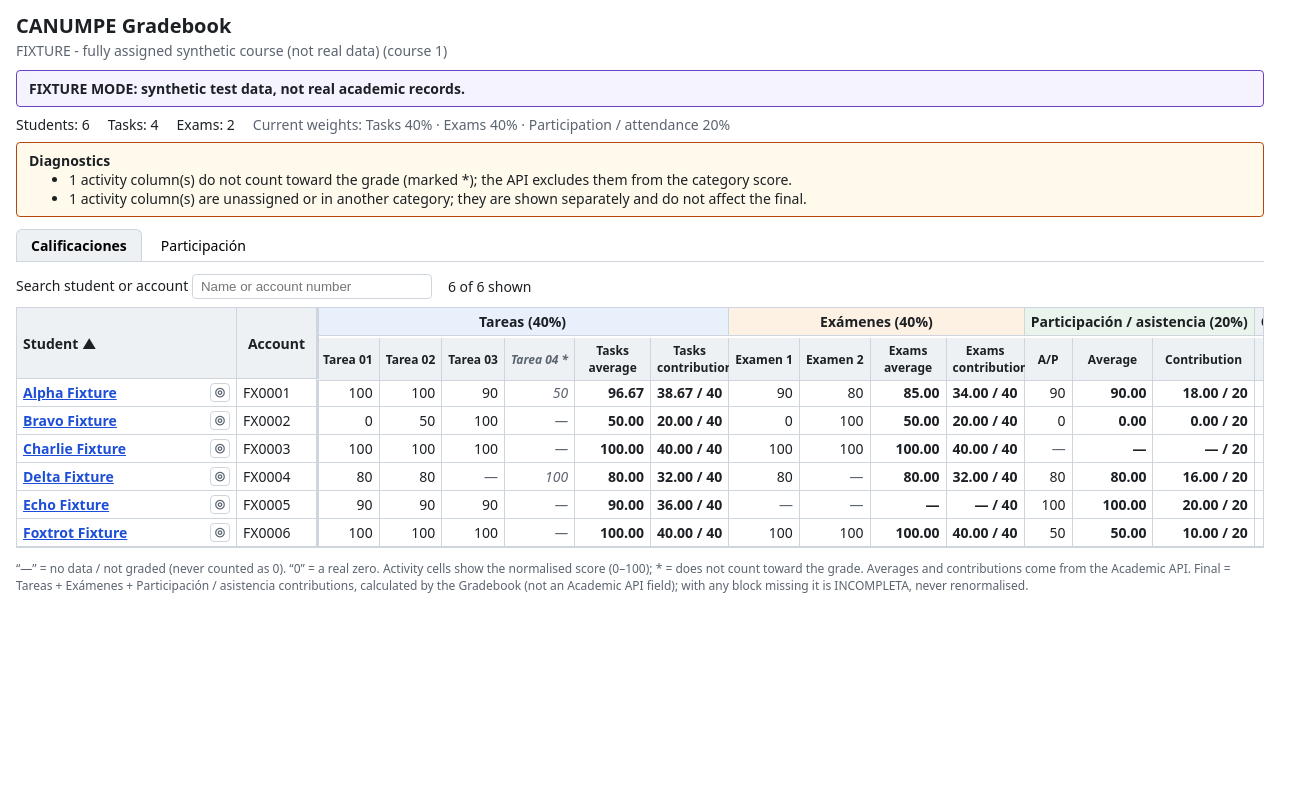
Test: App › filters by name and by account
Expected: the table is shown, [17,308,1264,547]
Step 1. Type "delta" into the search field labelled "Search student or account" → (312, 286), box [192,274,432,299]
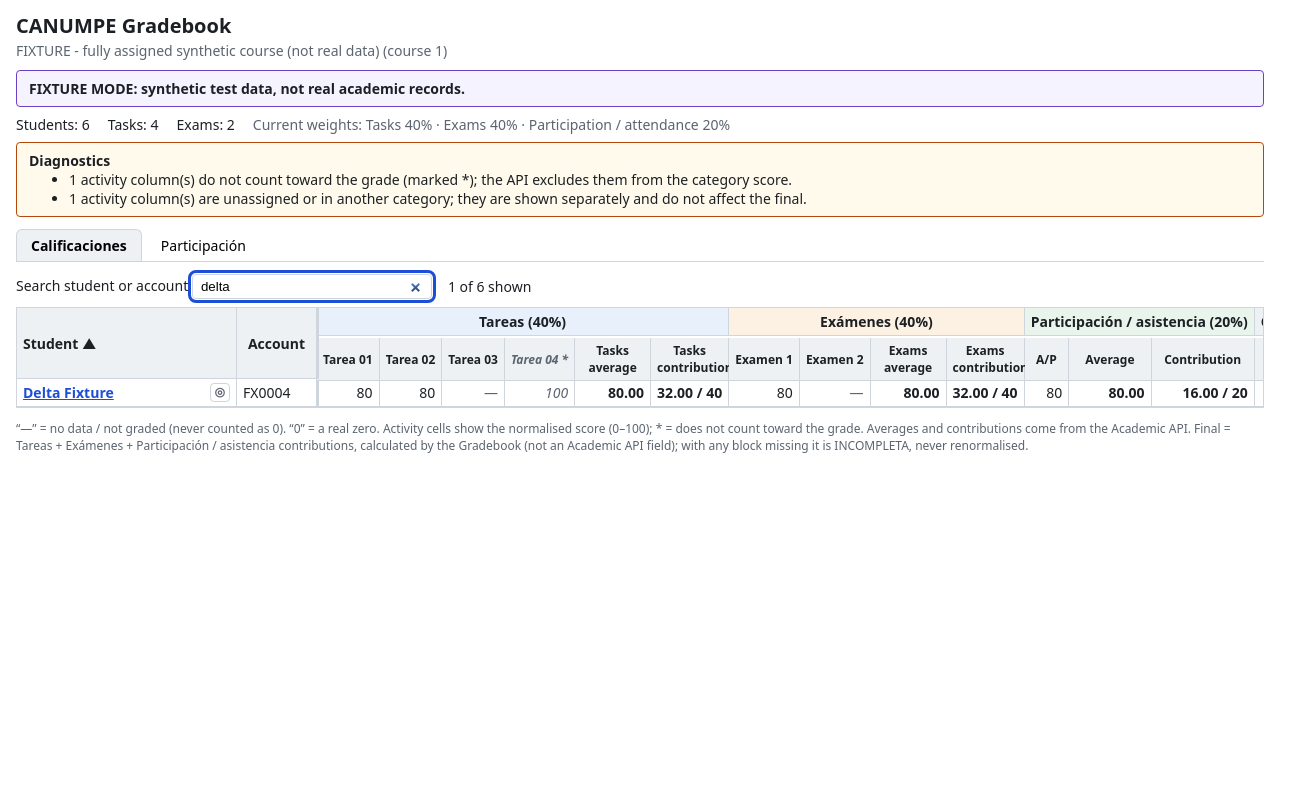
Step 2. Replace the text in the search field labelled "Search student or account" with "FX0002" → (312, 286), box [192,274,432,299]
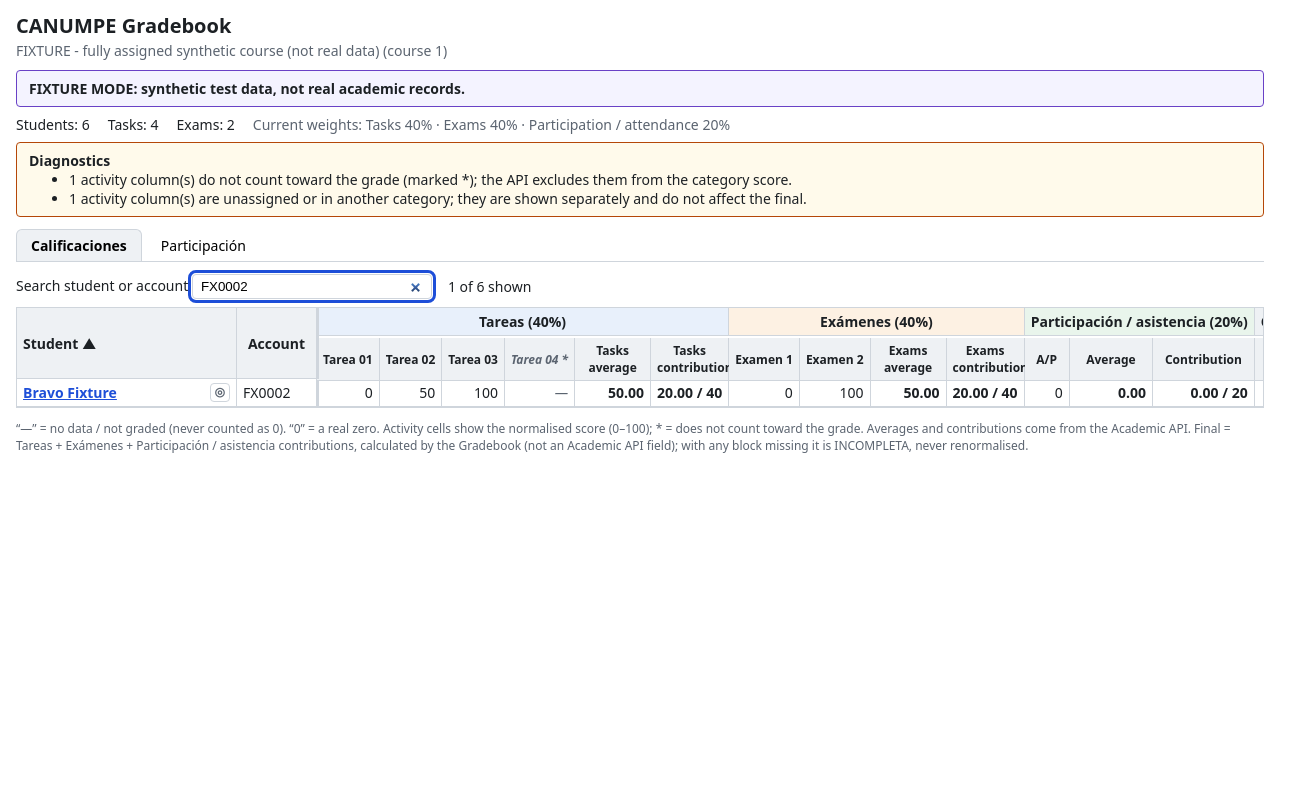
Expected: the row that starts with "Bravo Fixture" is shown, [23,383,117,402]
Step 3. Replace the text in the search field labelled "Search student or account" with "zzz" → (312, 286), box [192,274,432,299]
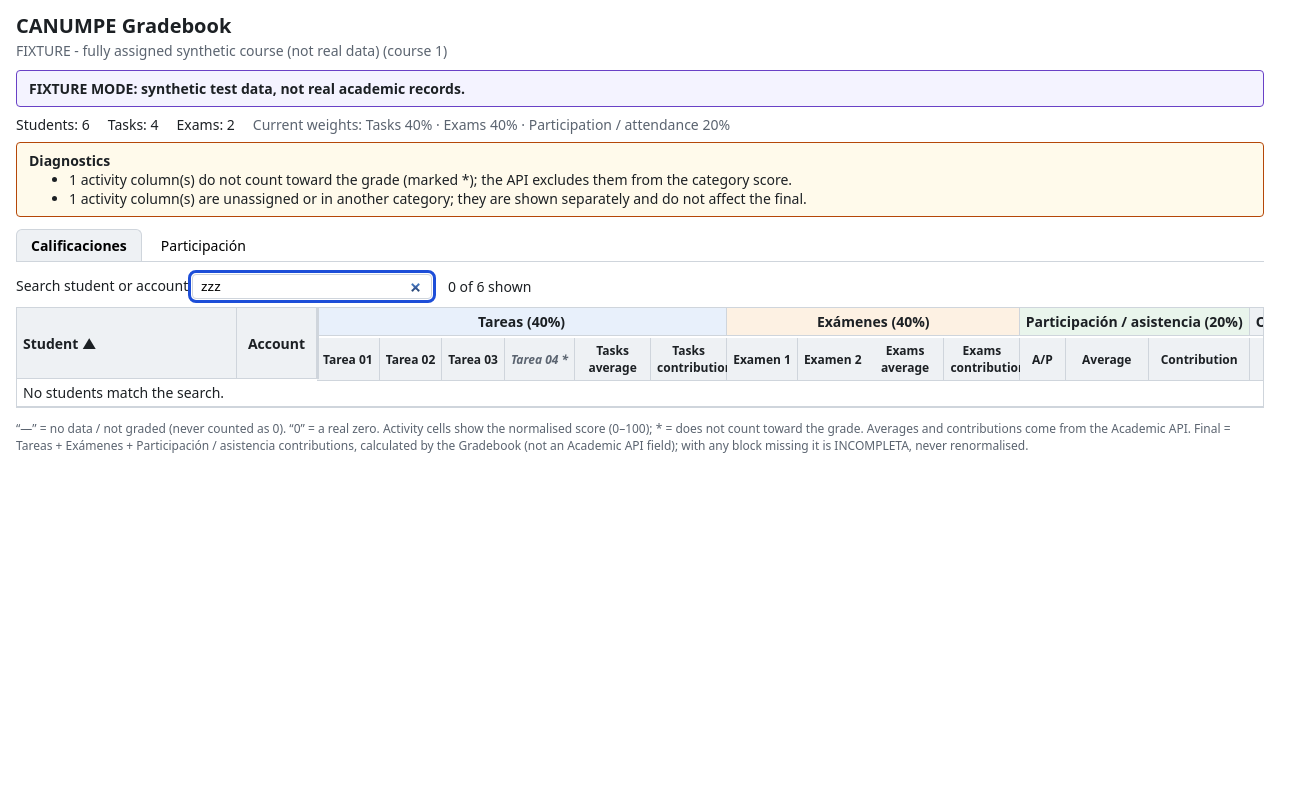
Expected: the text "No students match the search." is shown, [17,379,1264,407]
